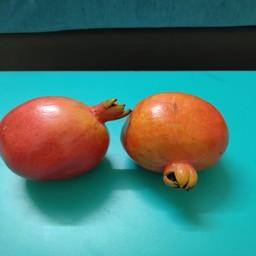pomegranate: (0, 96, 131, 180), (121, 91, 229, 191)
